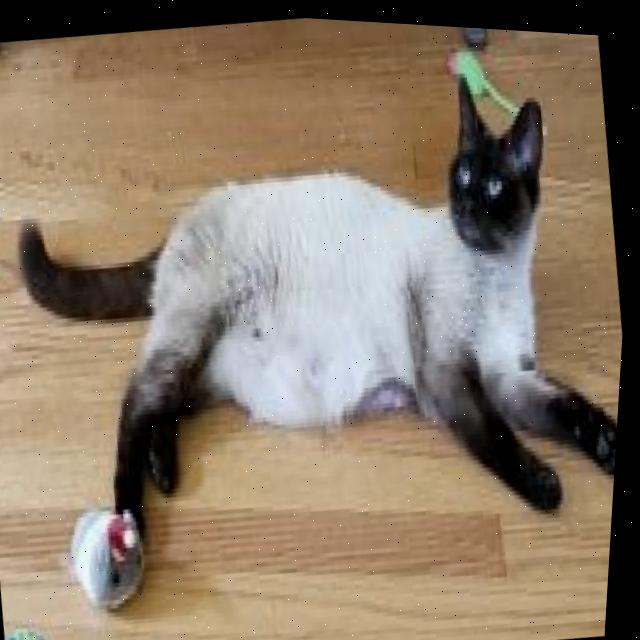Siamese: (0, 18, 639, 583)
